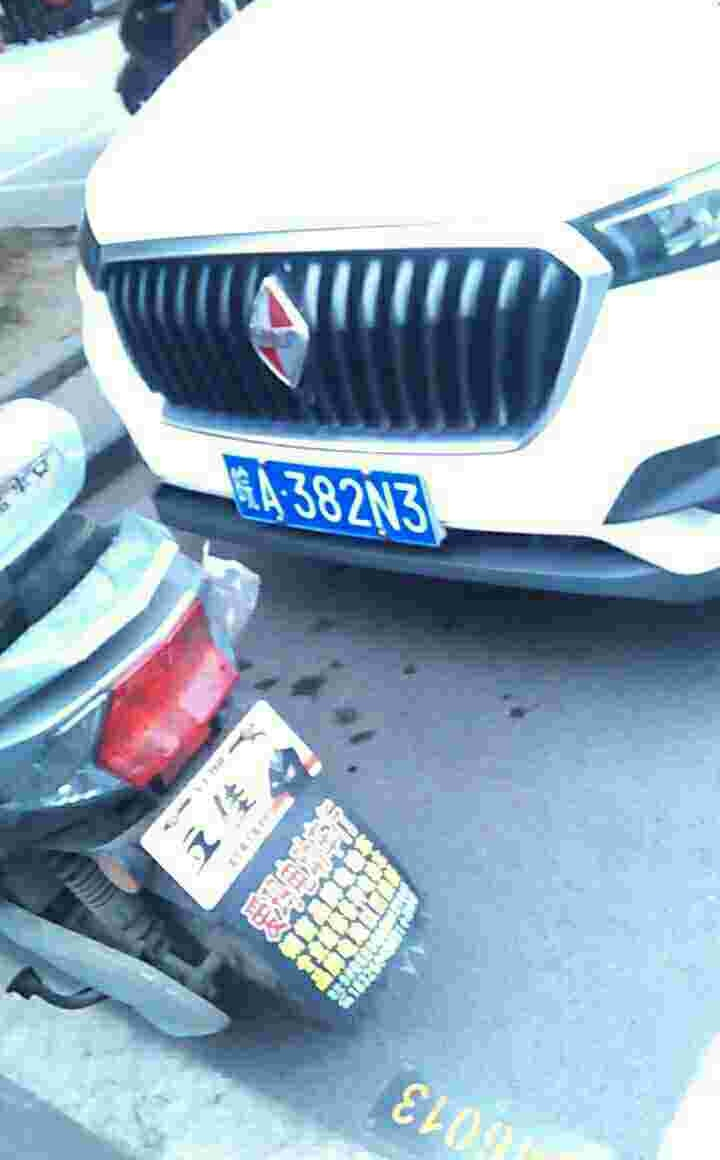license_plate: (234, 458, 439, 549)
